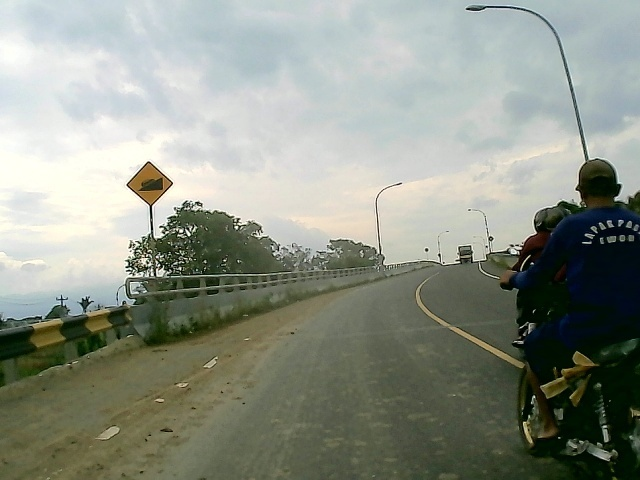Jalanan menanjak: (124, 161, 175, 208)
